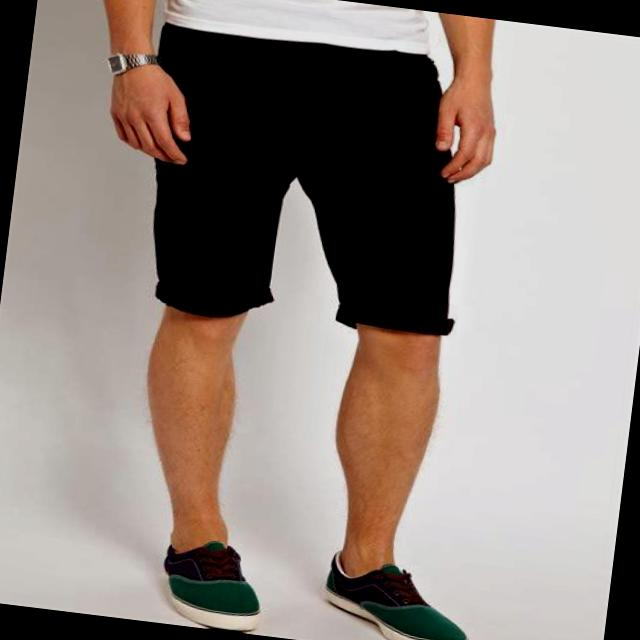short: (126, 21, 488, 346)
